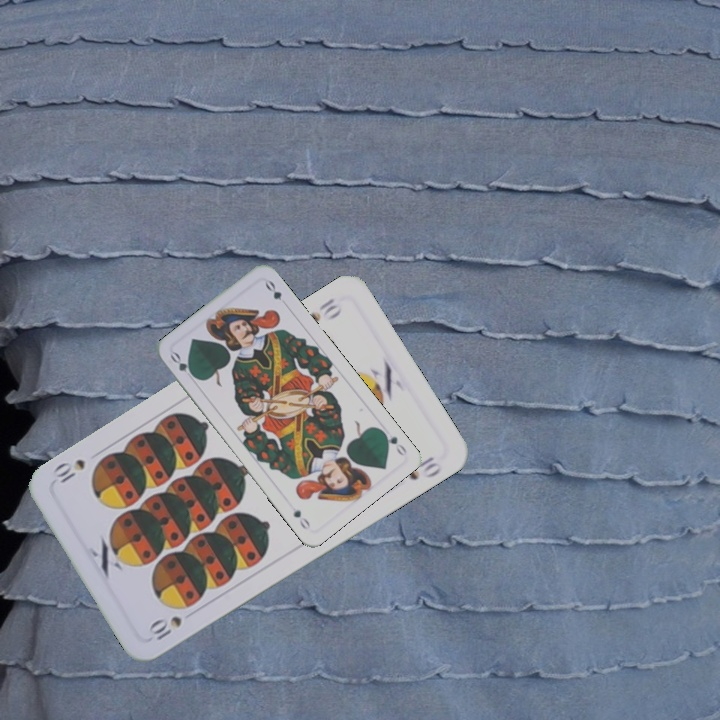GO: (166, 348, 200, 383), (376, 425, 409, 458)
S10: (305, 294, 345, 325), (147, 612, 185, 643)
